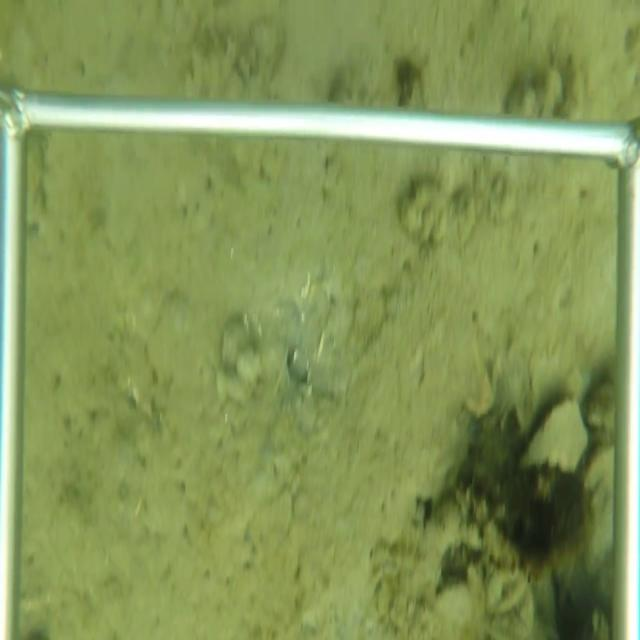Oyster-Indeterminate: (516, 391, 593, 471)
